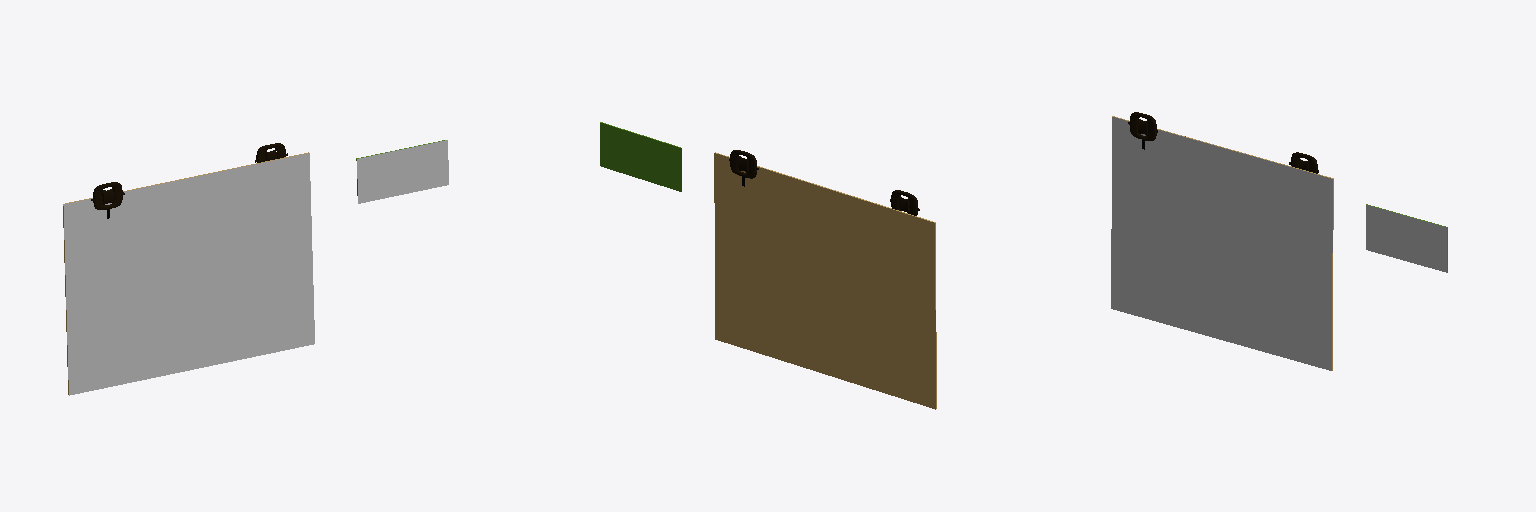
Rendered from daftarmenu1.obj.
3 renders of one model, left to right at view 1: azimuth 30°, elevation 25°; view 2: azimuth 150°, elevation 25°; view 3: azimuth 330°, elevation 25°, orthographic.
Parts seen in each view (by area): view 1: Plane.018_Plane.055_Plane.018_Plane.002_Plane.018_Plane.055_Plan, Plane.059_Plane.021_Plane.059_Plane.002_Plane.059_Plane.021_Plan; view 2: Plane.018_Plane.055_Plane.018_Plane.002_Plane.018_Plane.055_Plan, Plane.059_Plane.021_Plane.059_Plane.002_Plane.059_Plane.021_Plan; view 3: Plane.018_Plane.055_Plane.018_Plane.002_Plane.018_Plane.055_Plan, Plane.059_Plane.021_Plane.059_Plane.002_Plane.059_Plane.021_Plan.
Boxes of the visible parts, <box> form: Plane.018_Plane.055_Plane.018_Plane.002_Plane.018_Plane.055_Plan: <box>63,152,314,395</box>; Plane.059_Plane.021_Plane.059_Plane.002_Plane.059_Plane.021_Plan: <box>356,140,448,203</box>; Plane.018_Plane.055_Plane.018_Plane.002_Plane.018_Plane.055_Plan: <box>714,152,936,409</box>; Plane.059_Plane.021_Plane.059_Plane.002_Plane.059_Plane.021_Plan: <box>600,122,681,191</box>; Plane.018_Plane.055_Plane.018_Plane.002_Plane.018_Plane.055_Plan: <box>1111,116,1333,370</box>; Plane.059_Plane.021_Plane.059_Plane.002_Plane.059_Plane.021_Plan: <box>1366,204,1447,272</box>.
Bounding box in the file's own units: 15.01 × 8.2 × 1.88.